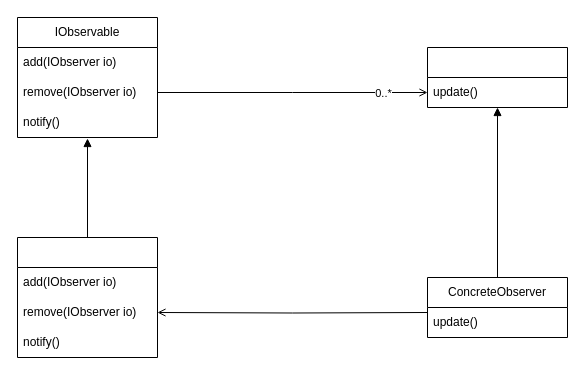
This 585x375 diagram has some shape labels left out. The shapes that lost their labels are listed below. From the top down, each one's box as (x1, y1, x2, y2) in pixels, then its label:
(426, 46, 568, 108): IObserver
(16, 236, 158, 358): ConcreteObservable
